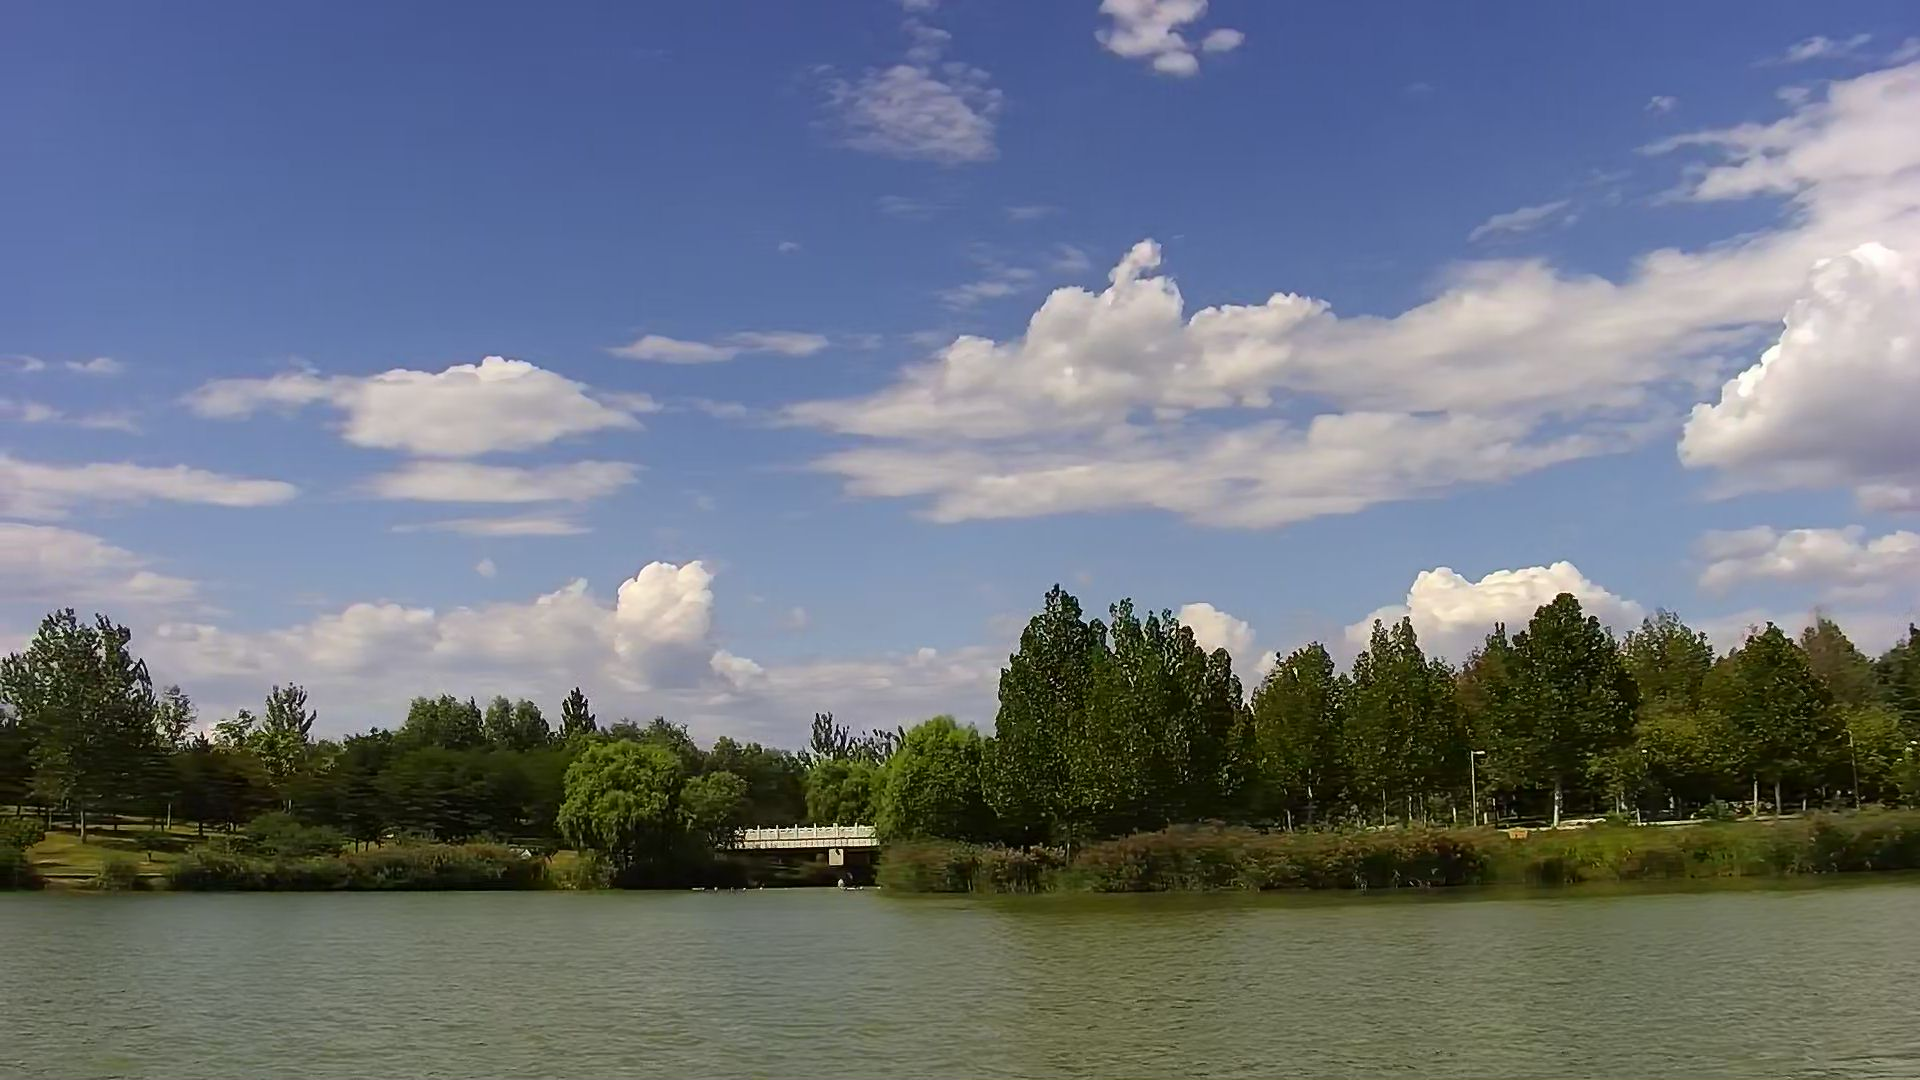bridge: (733, 820, 874, 884)
